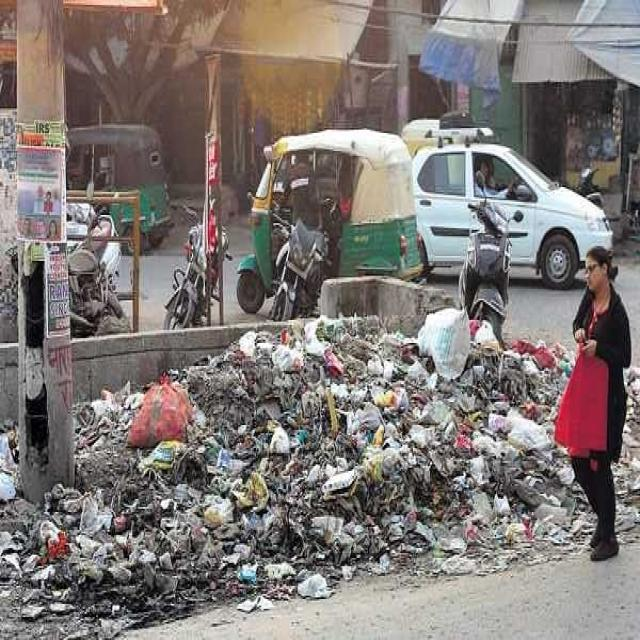garbage: (0, 279, 578, 638)
